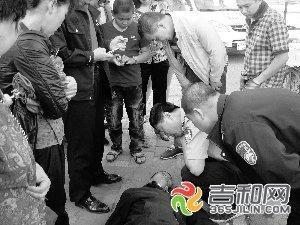Fall-Detected: (82, 163, 188, 224)
